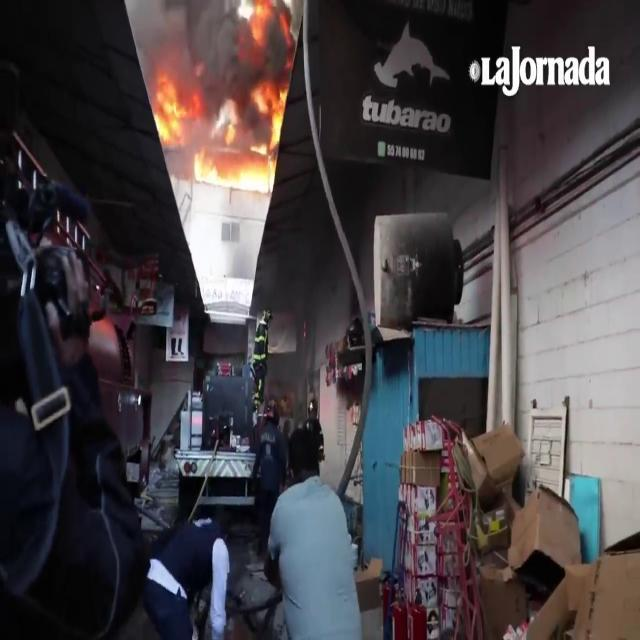Fire: (194, 11, 292, 188), (148, 63, 198, 146)
